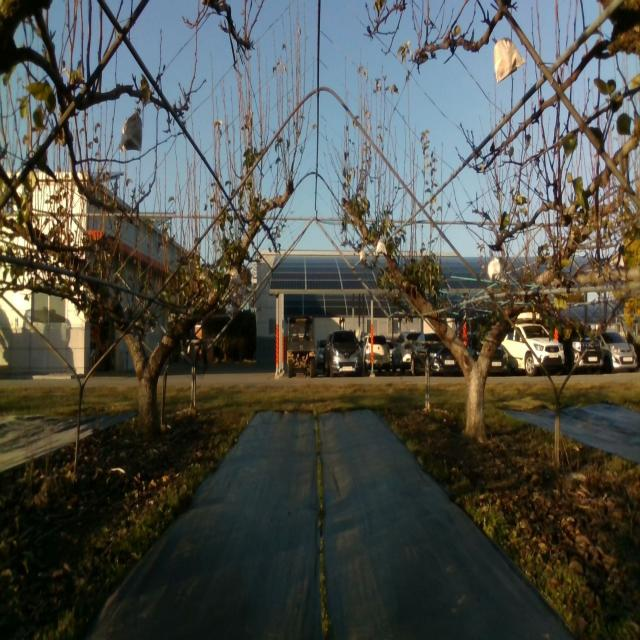pearbags: (492, 37, 525, 84), (119, 106, 142, 151), (487, 250, 506, 282)
